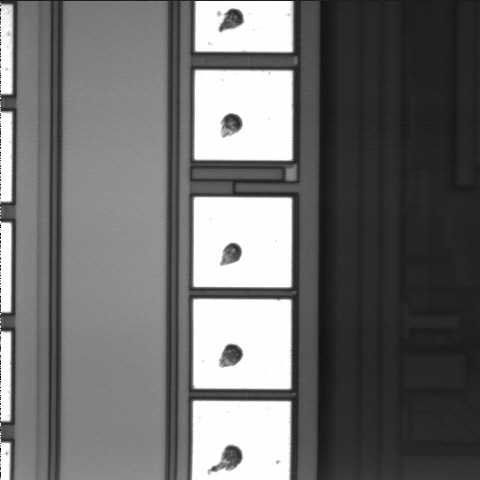pad: (194, 197, 292, 287), (193, 299, 291, 389), (195, 70, 292, 160)
